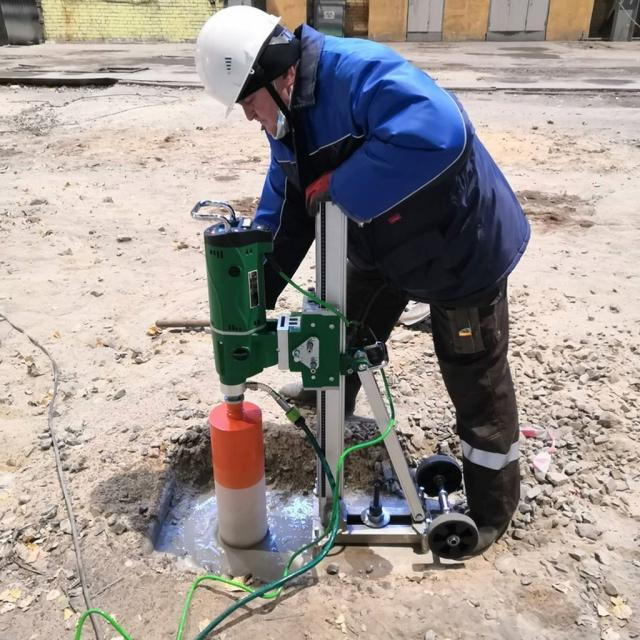Helmet: (195, 6, 284, 124)
NoJacket: (302, 58, 465, 305)
